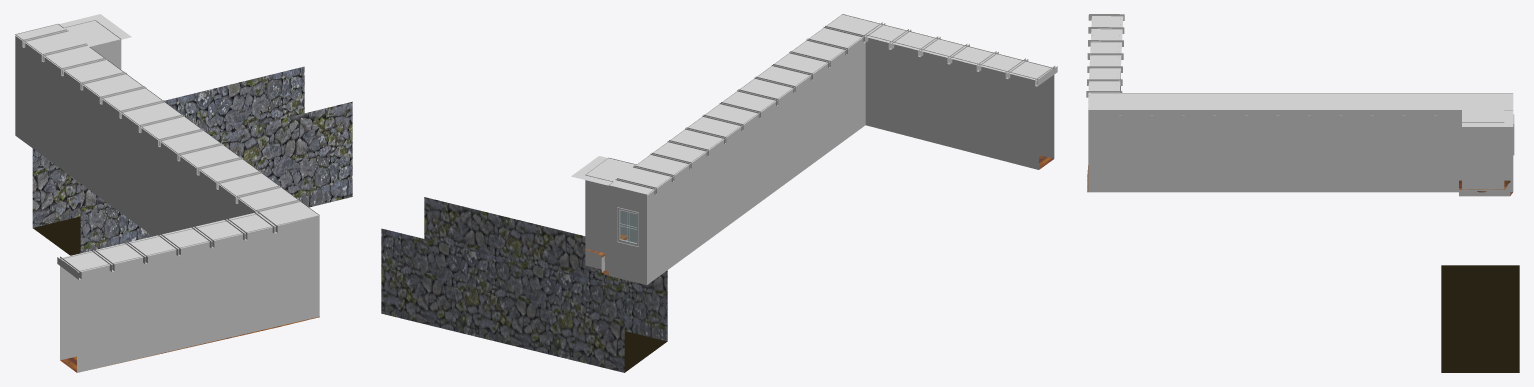
Rendered from abort_new.fbx.
3 views of the same model, side by side, from view 1: azimuth 30°, elevation 25°; view 2: azimuth 150°, elevation 25°; view 3: azimuth 270°, elevation 25° (orthographic). The views are drawn at different scales.
Parts seen in each view (by area): view 1: abort_walls, ammerkanal, abort_ceiling.001, abort_floor.001; view 2: abort_walls, ammerkanal, abort_ceiling.001; view 3: abort_walls, abort_ceiling.001, ammerkanal.
Part boxes in pixels (x1,y1,x2,y2): abort_walls: (15,20,319,372); ammerkanal: (32,66,352,255); abort_ceiling.001: (15,14,318,279); abort_floor.001: (60,316,319,372); abort_walls: (585,14,1054,284); ammerkanal: (381,197,667,372); abort_ceiling.001: (571,14,1057,195); abort_walls: (1088,22,1514,196); abort_ceiling.001: (1086,14,1513,126); ammerkanal: (1441,265,1519,372).
Size of the model in its own units: 911 by 359 by 857.
